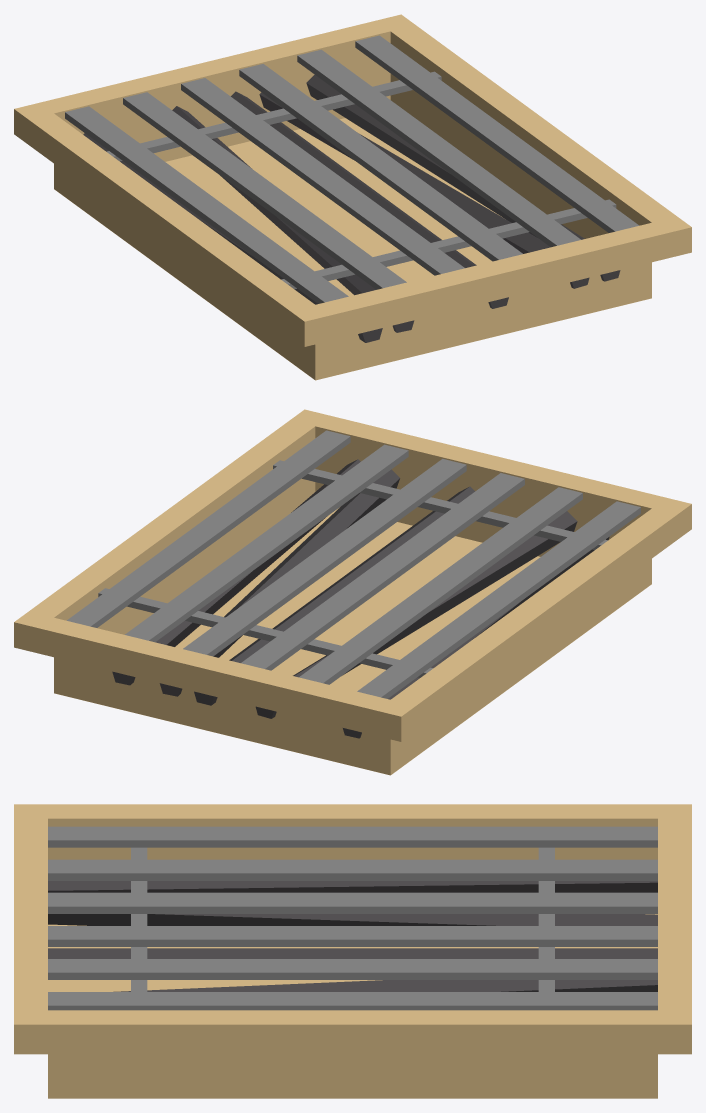
File: Industrial_New_Floor_Grate_Pipes.fbx
3 views of the same model, one above another, from view 1: azimuth 30°, elevation 25°; view 2: azimuth 150°, elevation 25°; view 3: azimuth 270°, elevation 25° (orthographic). The views are drawn at different scales.
Visible parts, largest first — view 1: Cylinder.001; view 2: Cylinder.001; view 3: Cylinder.001.
Boxes of the visible parts, x1,y1,x2,y2 form: Cylinder.001: (14,14,691,380); Cylinder.001: (14,409,691,775); Cylinder.001: (14,804,691,1098).
Size of the model in its own units: 200 by 37.34 by 260.
